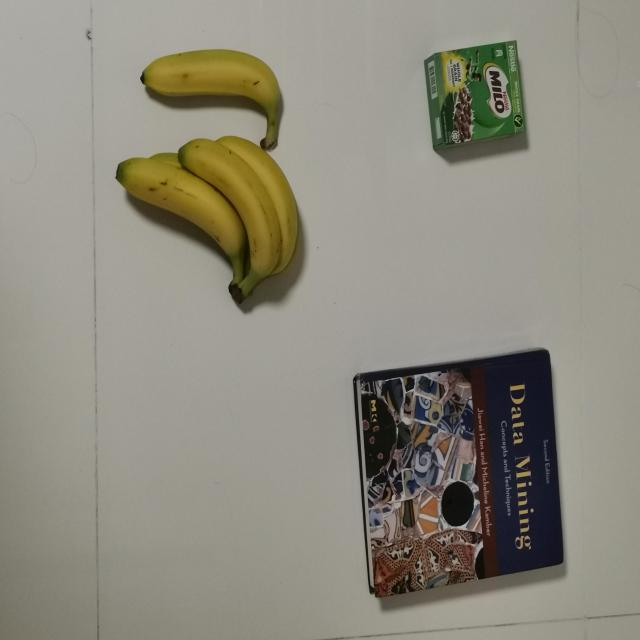Banana: (115, 136, 308, 304), (139, 41, 287, 148)
Book: (342, 343, 577, 604)
Cerealbox: (416, 37, 543, 157)
